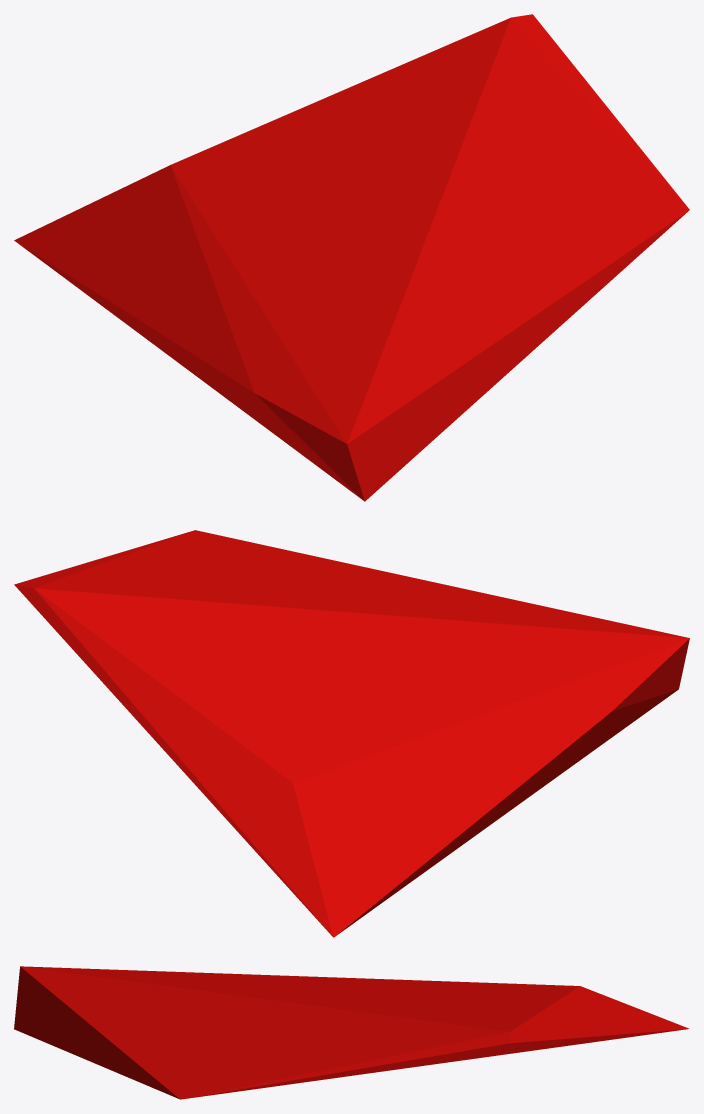
Rendered from torso_convex_piece_032.obj.
The picture shows the model from 3 angles, top to bottom: view 1: azimuth 30°, elevation 25°; view 2: azimuth 150°, elevation 25°; view 3: azimuth 270°, elevation 25°; orthographic projection. The views are drawn at different scales.
Bounding box in the file's own units: 0.07 × 0.0291 × 0.0957.
